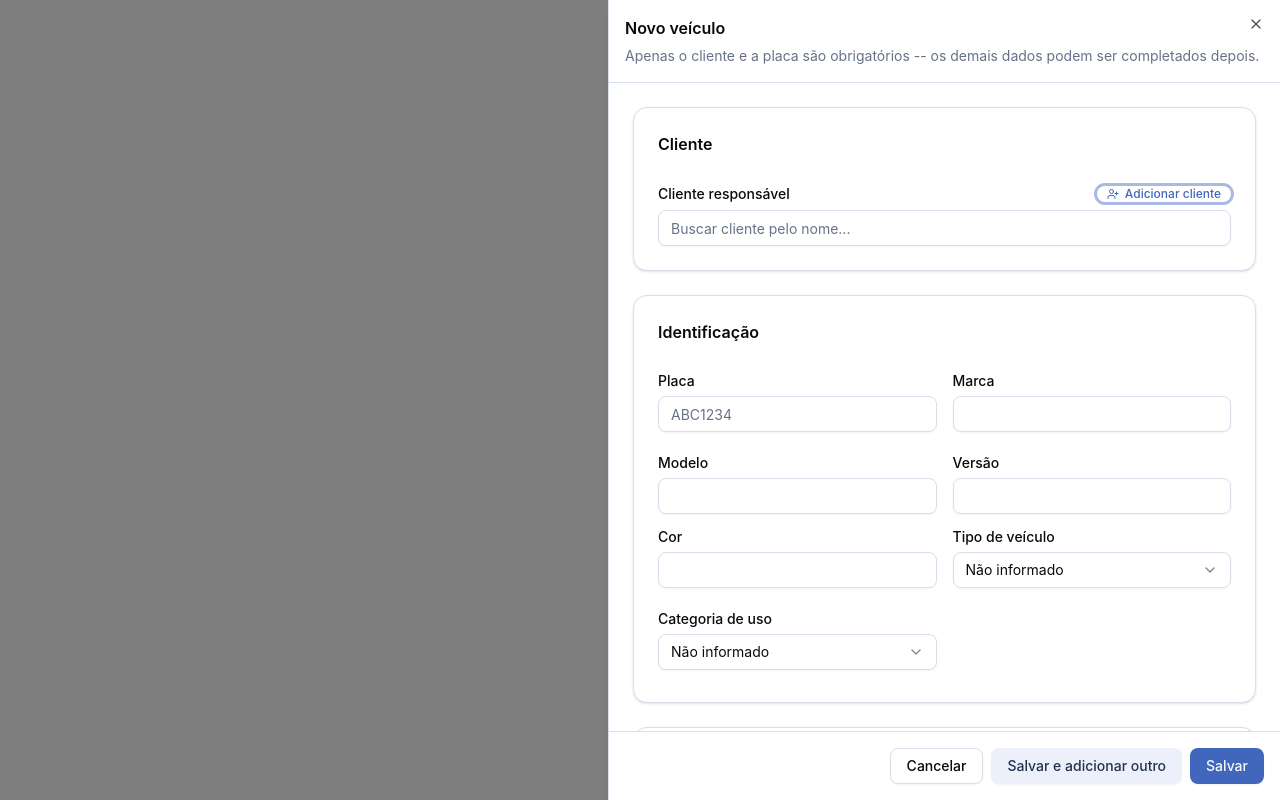
VehicleFormSheet › rejects a model year earlier than the manufacture year
Type "ali" into the field with placeholder "Buscar cliente pelo nome..." at point(944, 228), box [658, 210, 1231, 246]
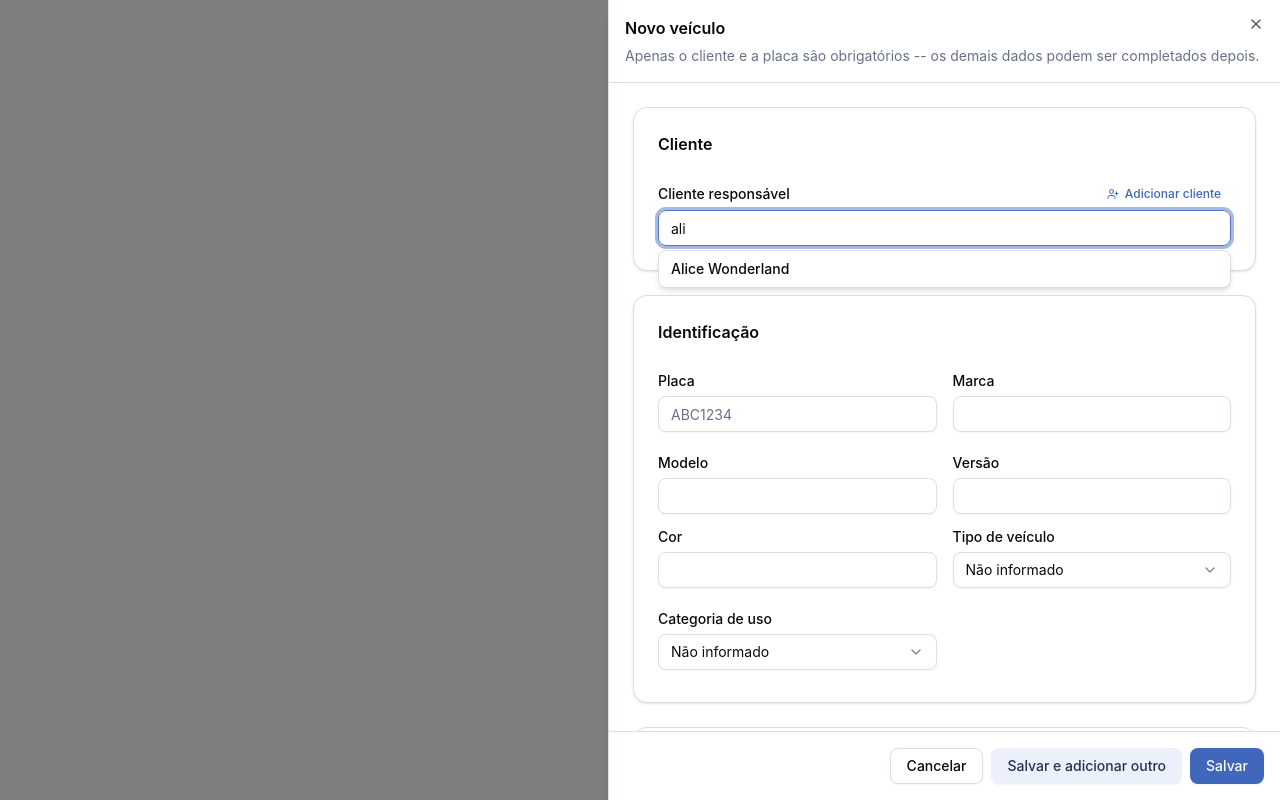
Click the button "Alice Wonderland" at point(730, 268), box [659, 251, 1230, 287]
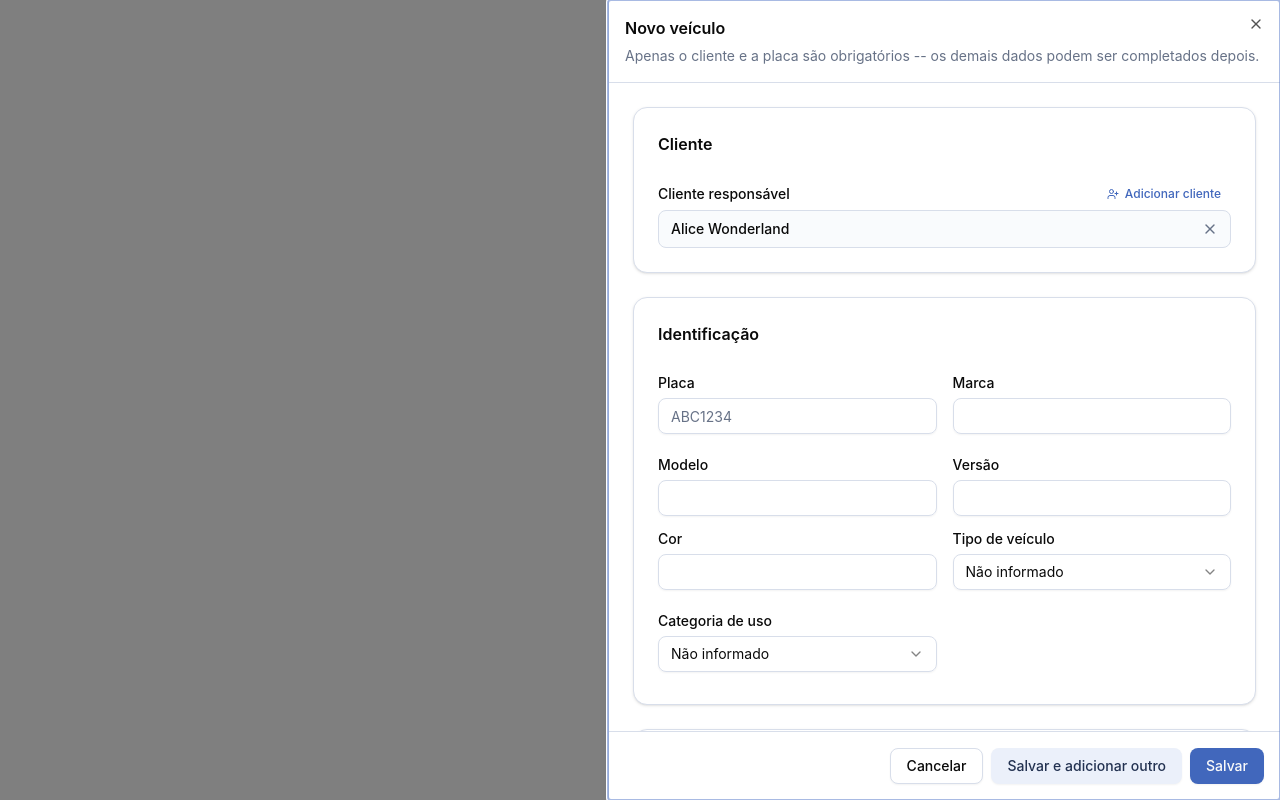
Type "abc1234" into the field labelled "Placa" at point(797, 416), box [658, 398, 936, 434]
(page scrolled)
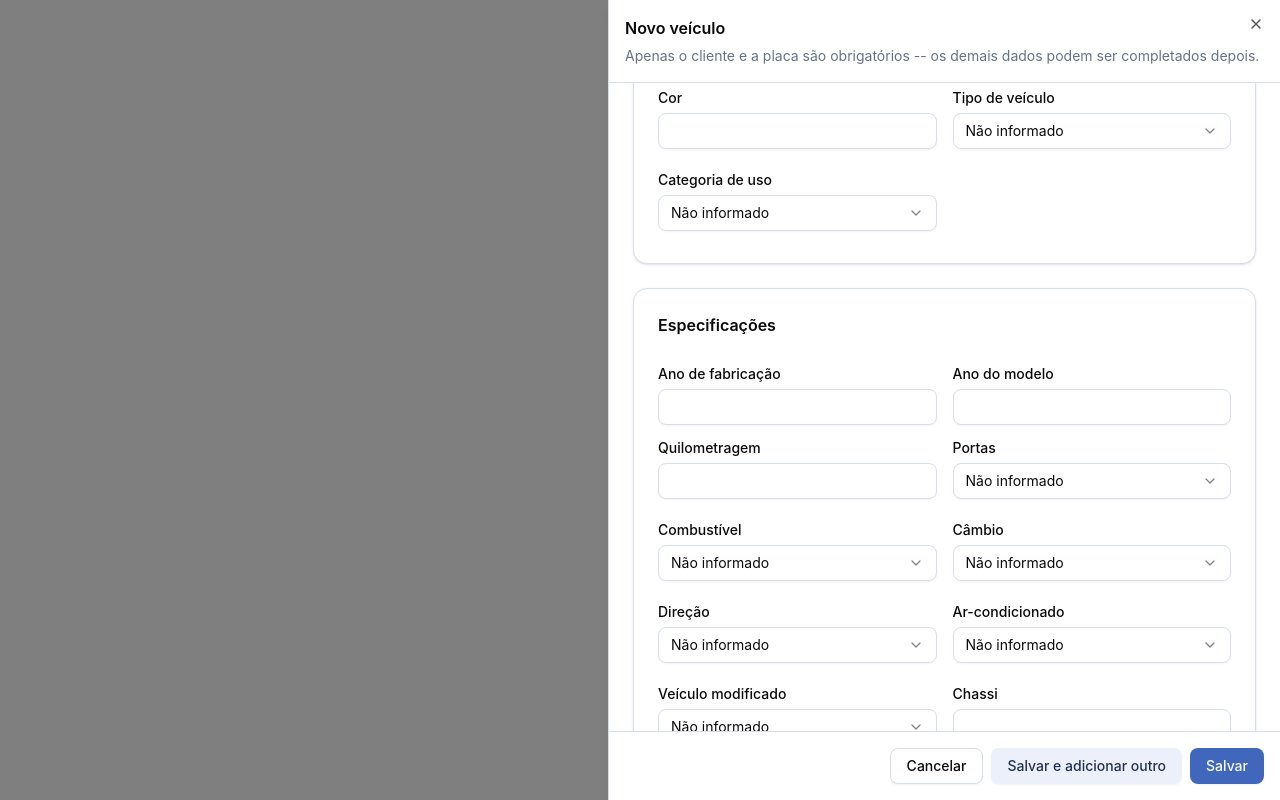
Type "2020" into the field labelled "Ano de fabricação" at point(797, 407), box [658, 389, 936, 425]
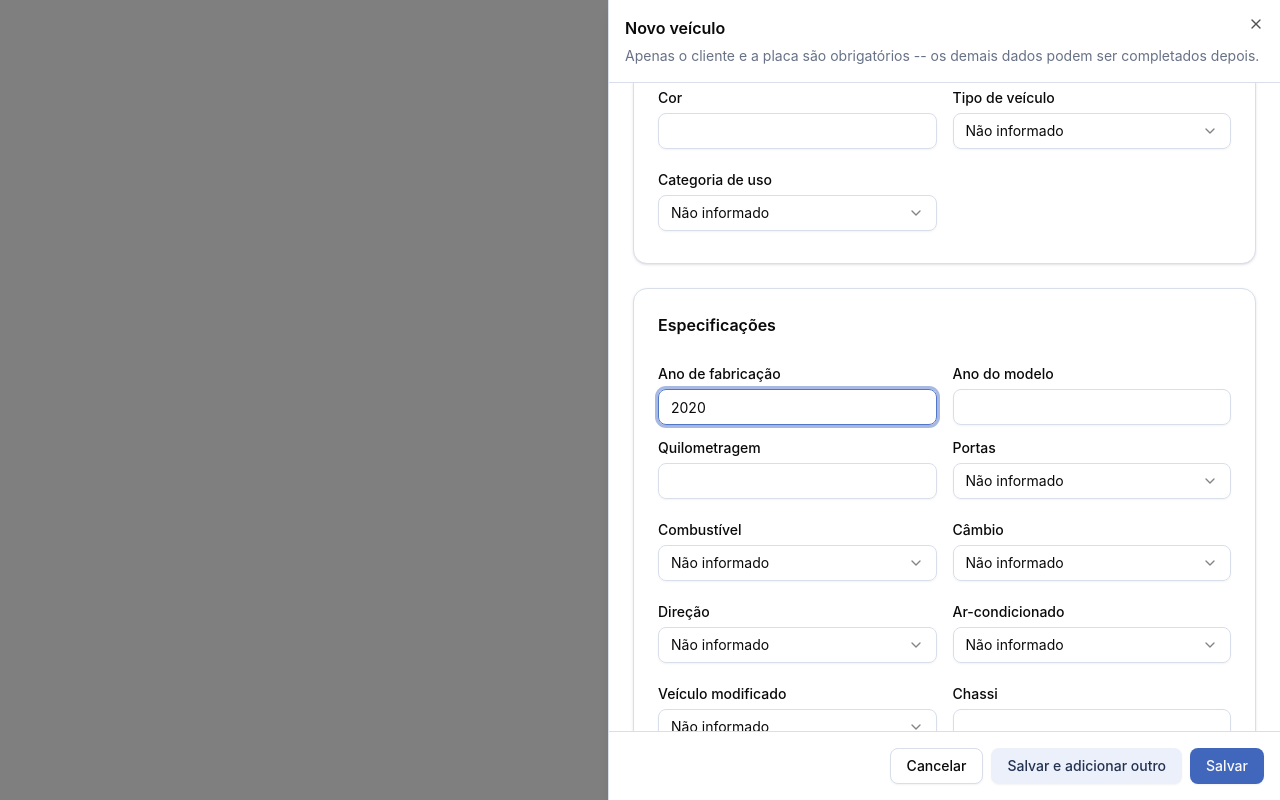
Type "2018" into the field labelled "Ano do modelo" at point(1092, 407), box [952, 389, 1231, 425]
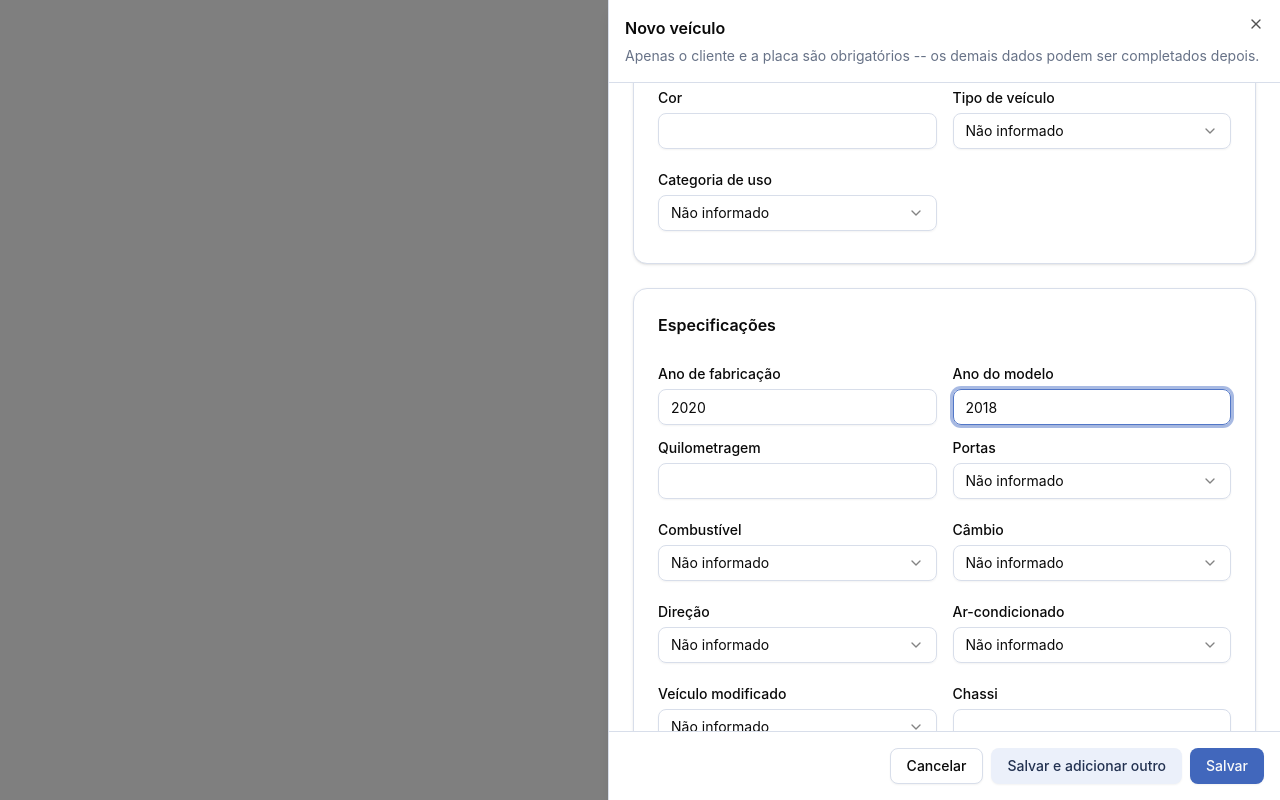
Click the button "Salvar" at point(1227, 766), box [1190, 748, 1264, 784]
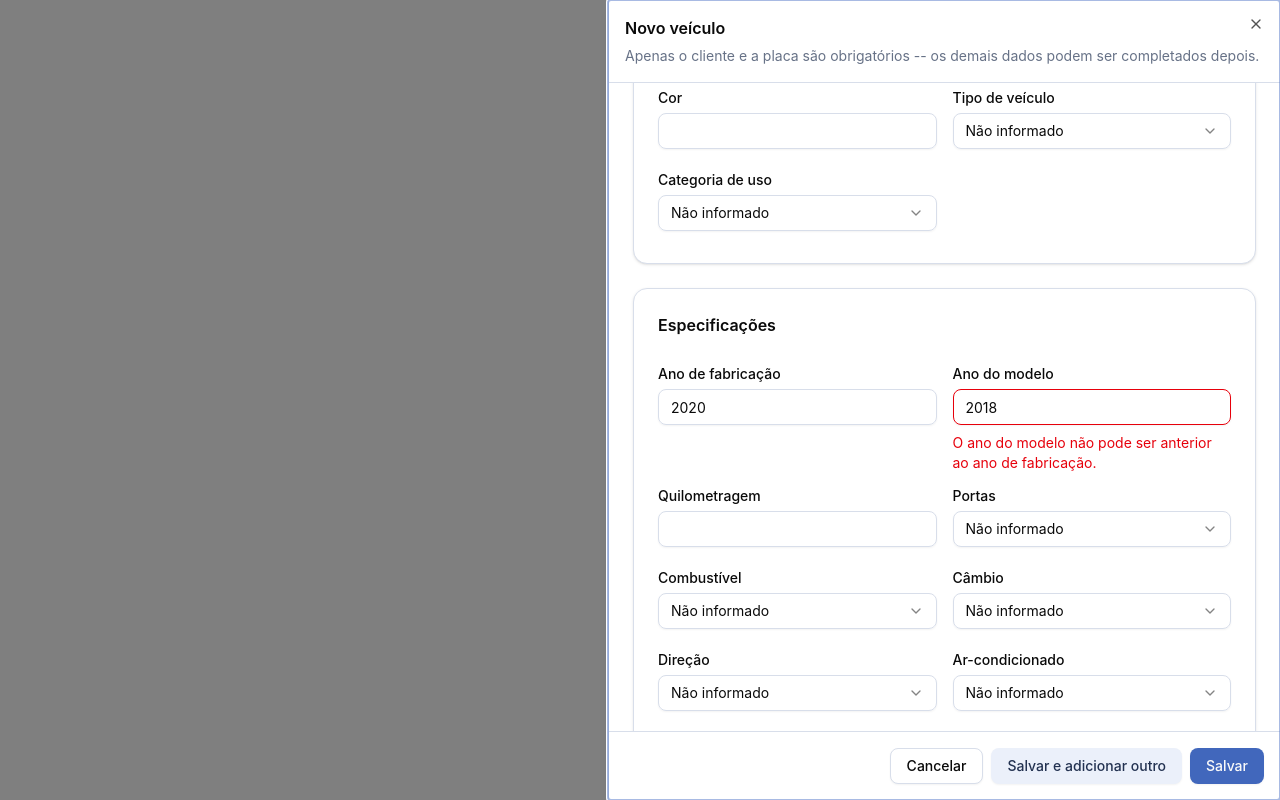
Now the text "O ano do modelo não pode ser anterior ao ano de fabricação." is shown, box [952, 433, 1231, 473]
